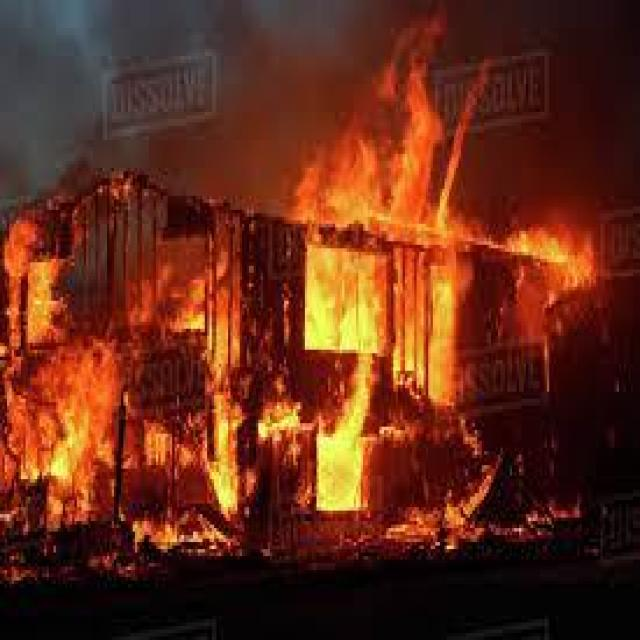fire: (287, 75, 571, 485)
smoke: (0, 0, 330, 210)
